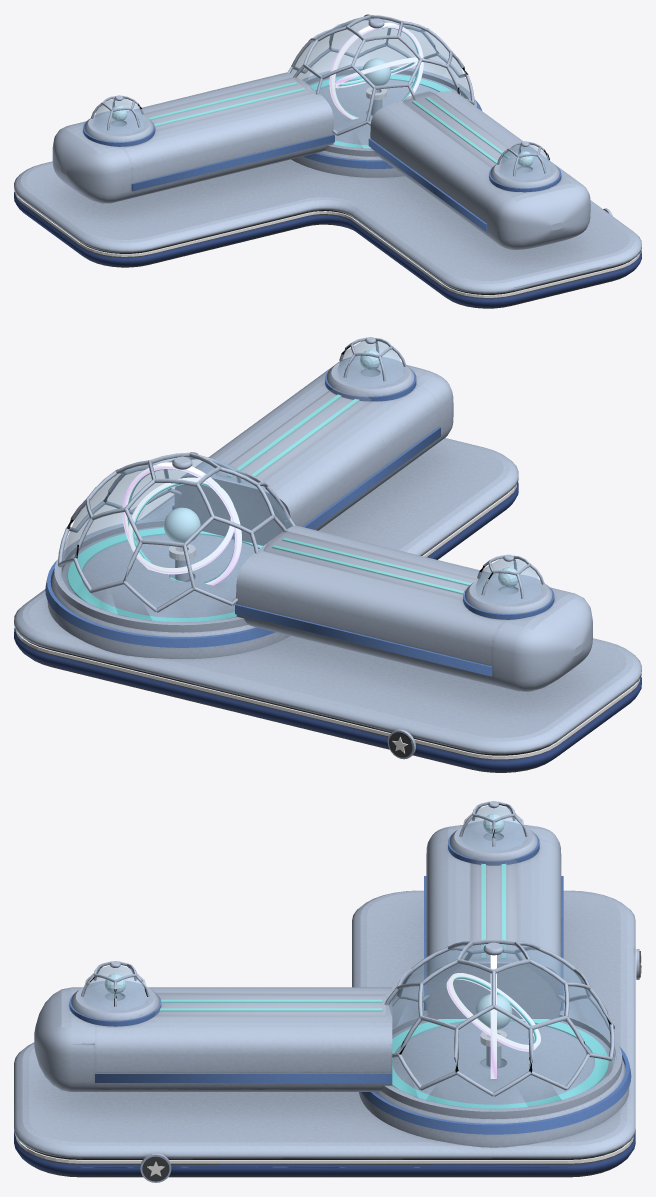
The model's file is SM_Evo_ShieldMatrix.fbx.
The picture shows the model from 3 angles, top to bottom: view 1: azimuth 30°, elevation 25°; view 2: azimuth 150°, elevation 25°; view 3: azimuth 270°, elevation 25°; orthographic projection. The views are drawn at different scales.
Parts seen in each view (by area): view 1: SMN_Evo_ShieldMatrix, Emblem_Fx_ShieldMatrix, EmitterRingA_ShieldMatrix, EmitterRingB_ShieldMatrix, EmitterCore_ShieldMatrix; view 2: SMN_Evo_ShieldMatrix, Emblem_Fx_ShieldMatrix, EmitterRingA_ShieldMatrix, EmitterRingB_ShieldMatrix, EmitterCore_ShieldMatrix; view 3: SMN_Evo_ShieldMatrix, Emblem_Fx_ShieldMatrix, EmitterRingB_ShieldMatrix, EmitterCore_ShieldMatrix, EmitterRingA_ShieldMatrix.
Part boxes in pixels (x1,y1,x2,y2): SMN_Evo_ShieldMatrix: (14,14,641,308); Emblem_Fx_ShieldMatrix: (15,18,640,297); EmitterRingA_ShieldMatrix: (329,22,423,119); EmitterRingB_ShieldMatrix: (335,57,418,88); EmitterCore_ShieldMatrix: (362,58,390,86); SMN_Evo_ShieldMatrix: (14,337,641,772); Emblem_Fx_ShieldMatrix: (15,341,640,759); EmitterRingA_ShieldMatrix: (122,462,241,585); EmitterRingB_ShieldMatrix: (128,477,234,574); EmitterCore_ShieldMatrix: (164,507,200,542); SMN_Evo_ShieldMatrix: (14,801,640,1182); Emblem_Fx_ShieldMatrix: (15,805,641,1176); EmitterRingB_ShieldMatrix: (446,973,540,1051); EmitterCore_ShieldMatrix: (475,994,512,1030); EmitterRingA_ShieldMatrix: (490,955,496,1078).
Bounding box in the file's own units: 1.86 × 0.586 × 1.86.
